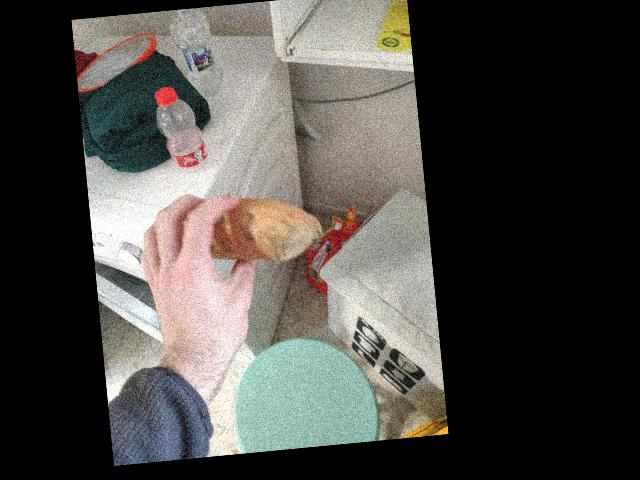sweet_potato: (186, 199, 291, 282)
